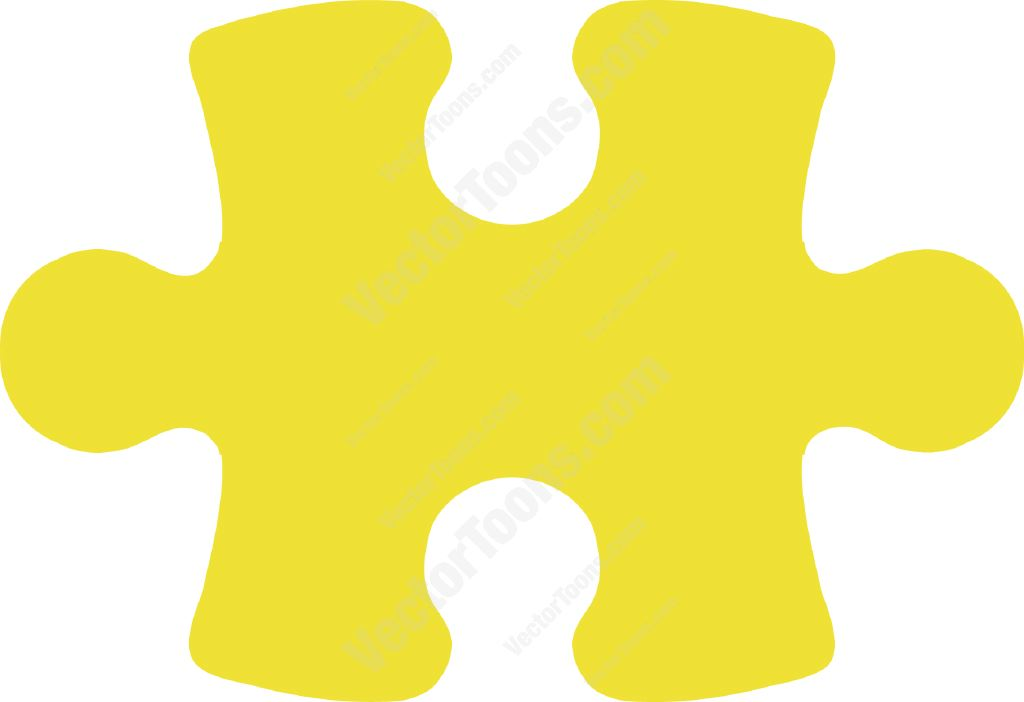puzzle piece: (3, 3, 1020, 702)
